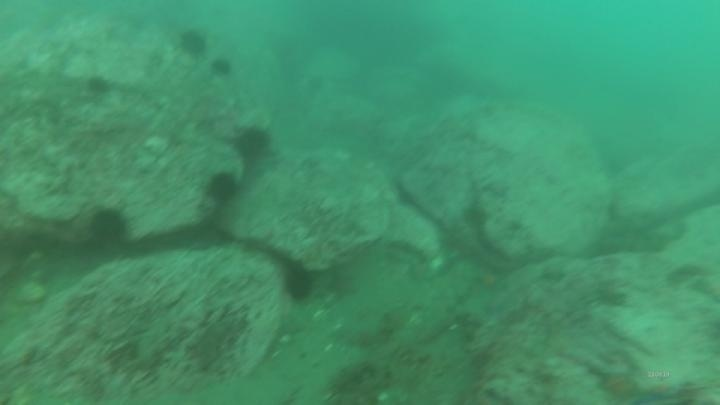echinus: (86, 205, 131, 247), (231, 124, 273, 163), (280, 264, 317, 304), (204, 170, 241, 206), (176, 27, 210, 60), (84, 73, 113, 100), (208, 55, 235, 80)
starfish: (594, 367, 646, 404), (636, 373, 689, 402), (591, 281, 630, 310)
